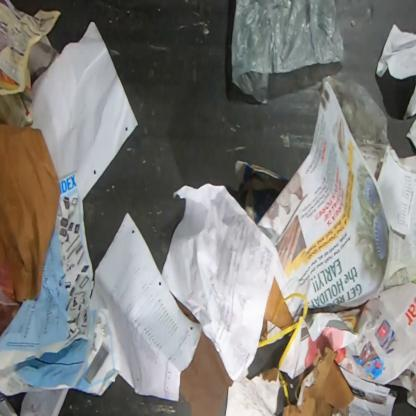cardboard: (0, 124, 61, 304), (282, 346, 356, 416), (179, 329, 234, 415), (234, 160, 289, 224), (223, 367, 283, 415), (264, 278, 295, 331)
soft_plastic: (230, 0, 345, 105), (321, 72, 391, 164)
